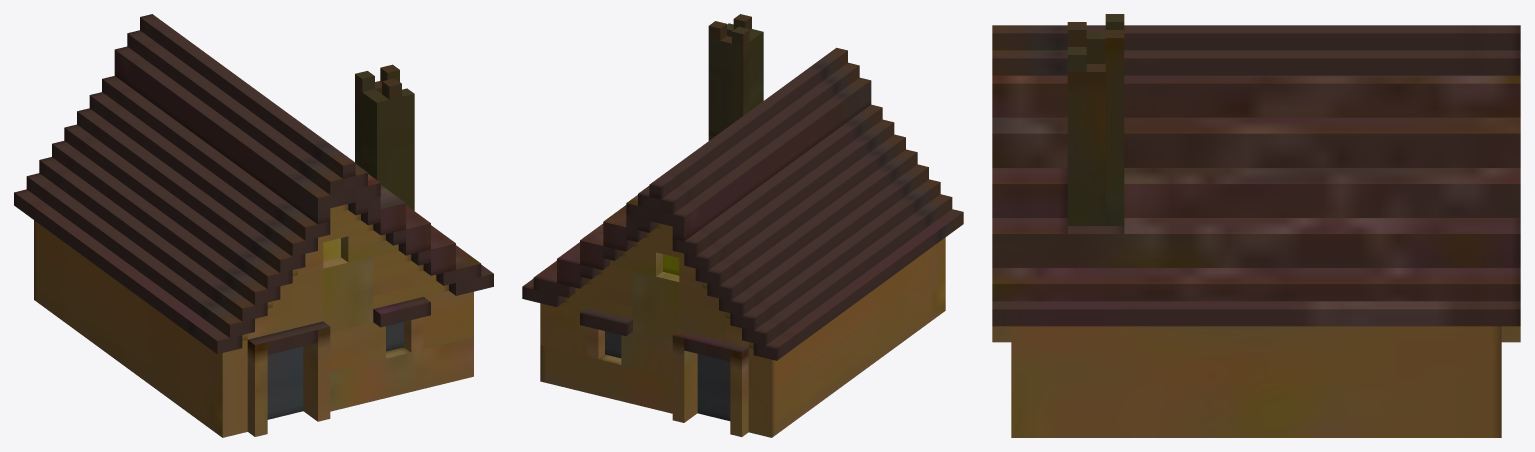
File: House.glb
3 renders of one model, left to right at view 1: azimuth 30°, elevation 25°; view 2: azimuth 150°, elevation 25°; view 3: azimuth 270°, elevation 25°, orthographic. The views are drawn at different scales.
Parts seen in each view (by area): view 1: Model; view 2: Model; view 3: Model.
Boxes of the visible parts, x1=… form: Model: x1=14, y1=14, x2=493, y2=437; Model: x1=522, y1=14, x2=963, y2=437; Model: x1=992, y1=14, x2=1520, y2=437.
Size of the model in its own units: 22 by 22 by 28.
Materials: 1 (1 with a texture image).
